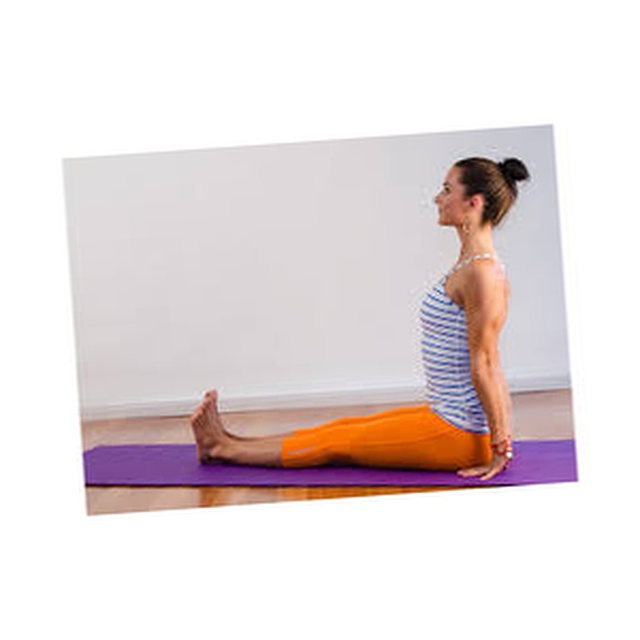Staff_Pose: (190, 156, 532, 482)
